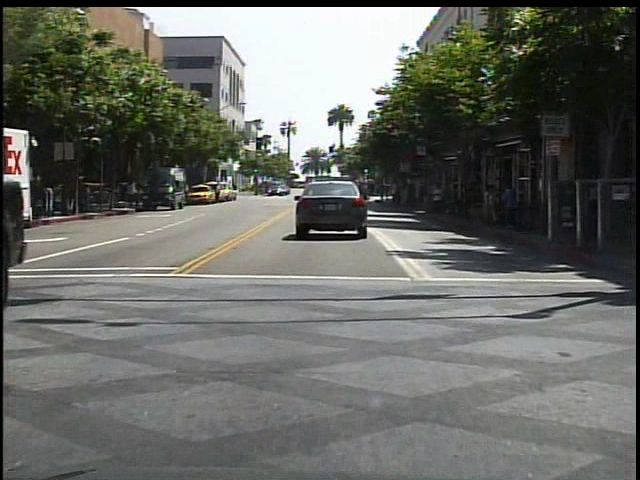person: (429, 180, 448, 220)
